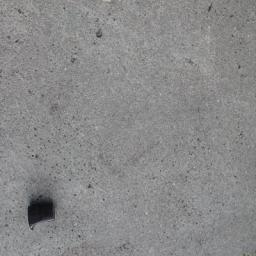FOD: (28, 200, 60, 234)
